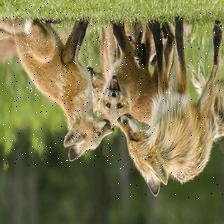fox: (118, 13, 223, 201), (0, 3, 112, 168), (93, 44, 142, 131)
